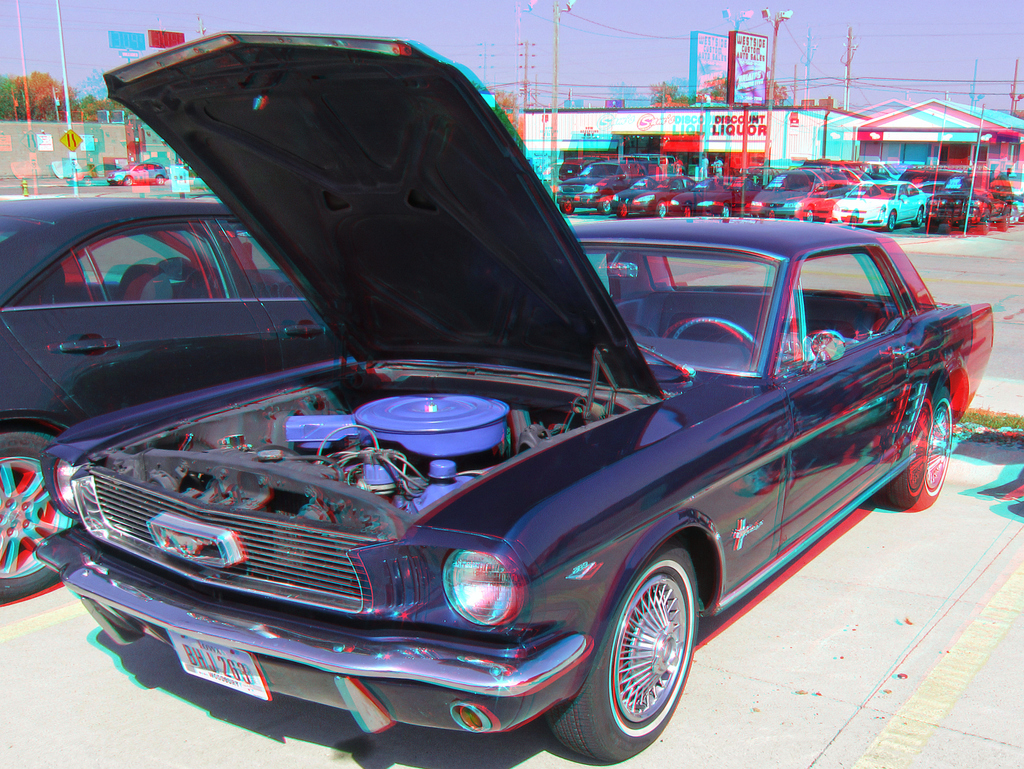Car: (27, 84, 968, 761), (0, 198, 340, 605), (558, 156, 1023, 231), (103, 160, 170, 188)
